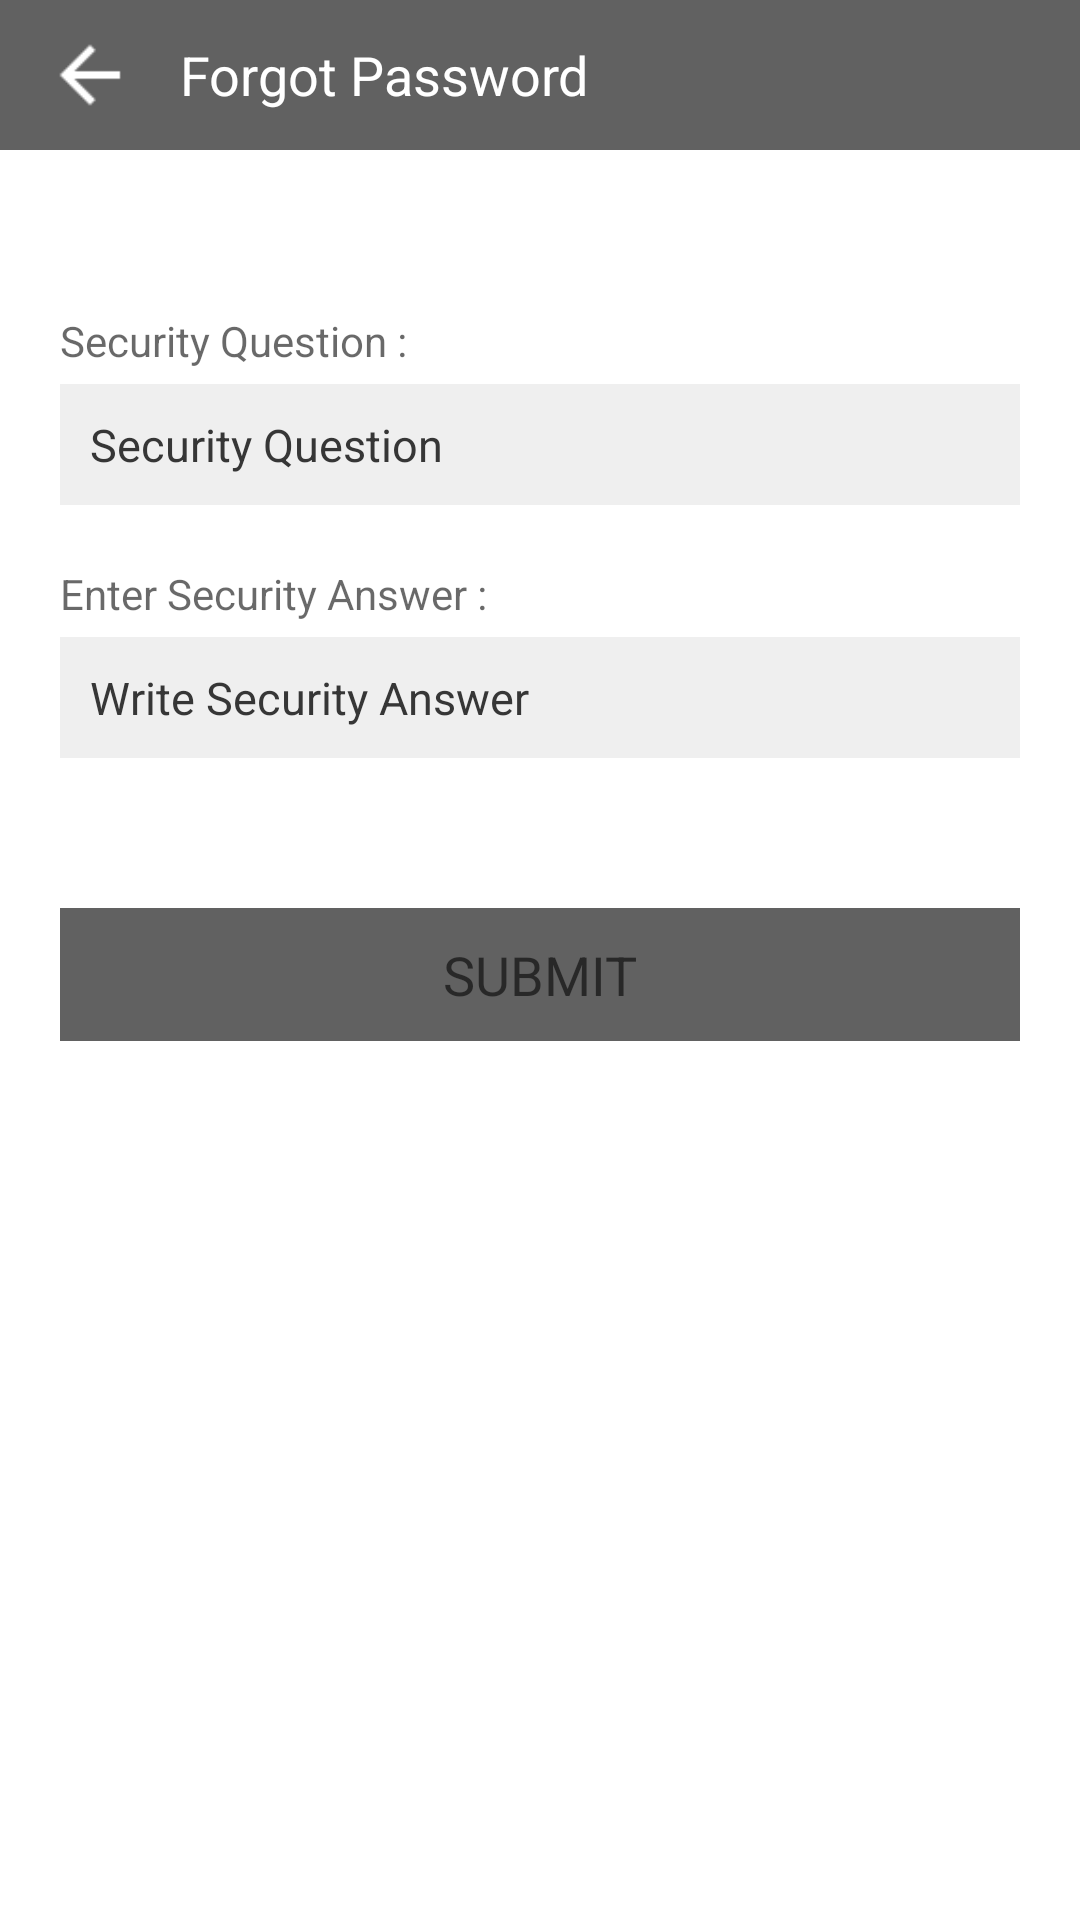

Named icons in this screenshot (1080*1920) and their bounding boxes, (x1, y1, x2, y2):
back: (60, 45, 121, 105)
